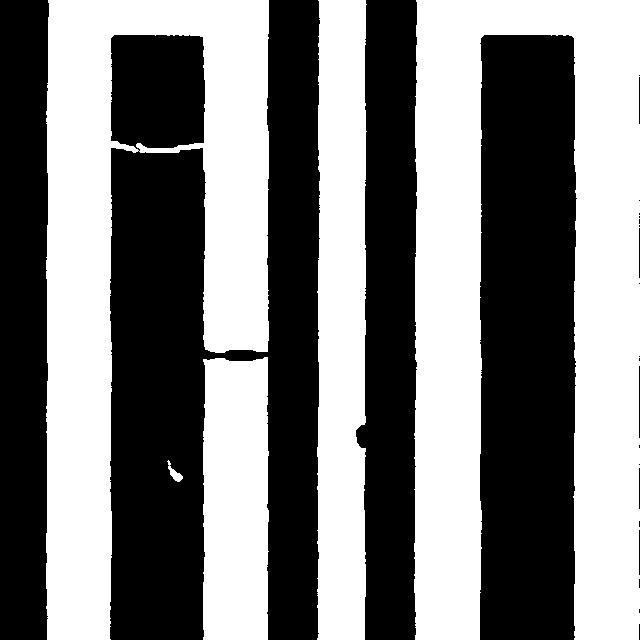open: (96, 131, 214, 162)
pin-hole: (157, 450, 192, 491)
short: (183, 334, 283, 370)
spur: (346, 415, 379, 457)
